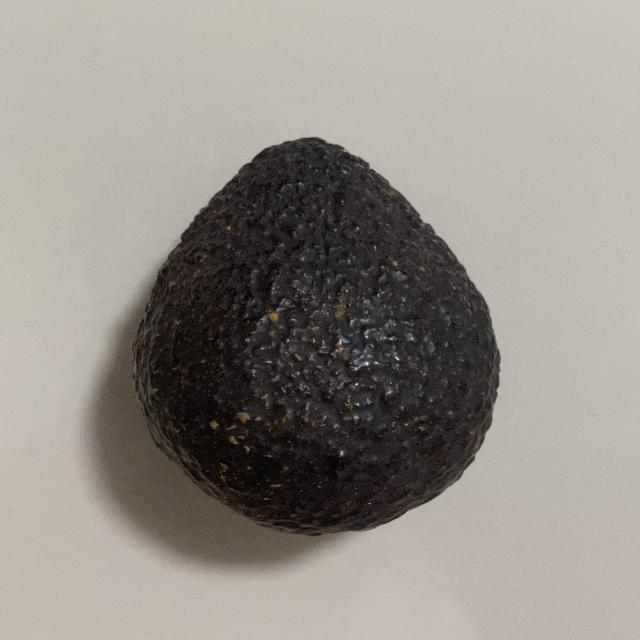Level4: (123, 129, 512, 542)
